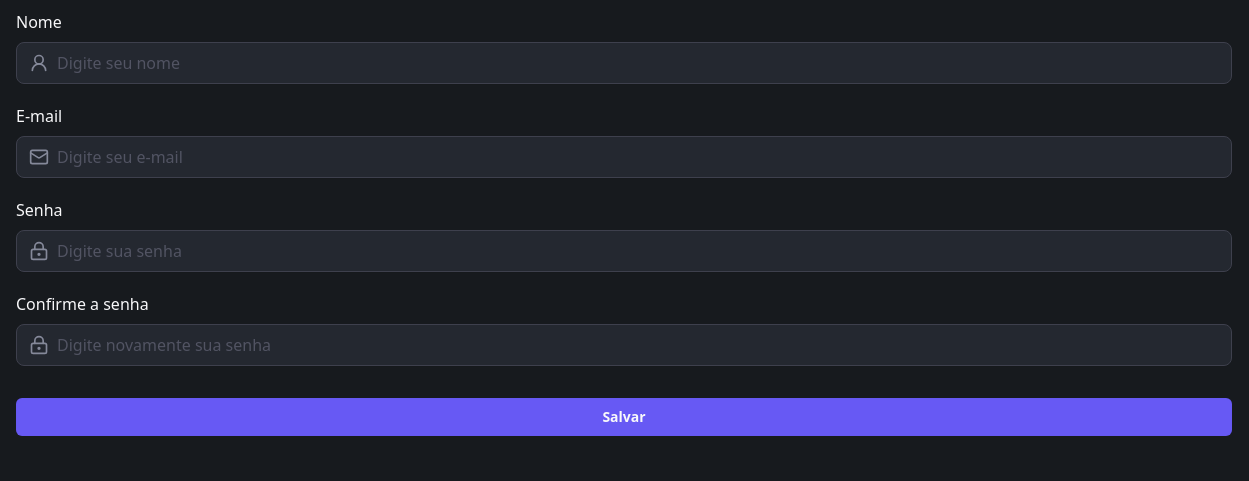
Test case: CadastrarUsuarioForm › exibe erro de campo retornado pela API
Type "Teste Silva" into the field labelled "Nome" at (638, 63), box [57,51,1219,75]
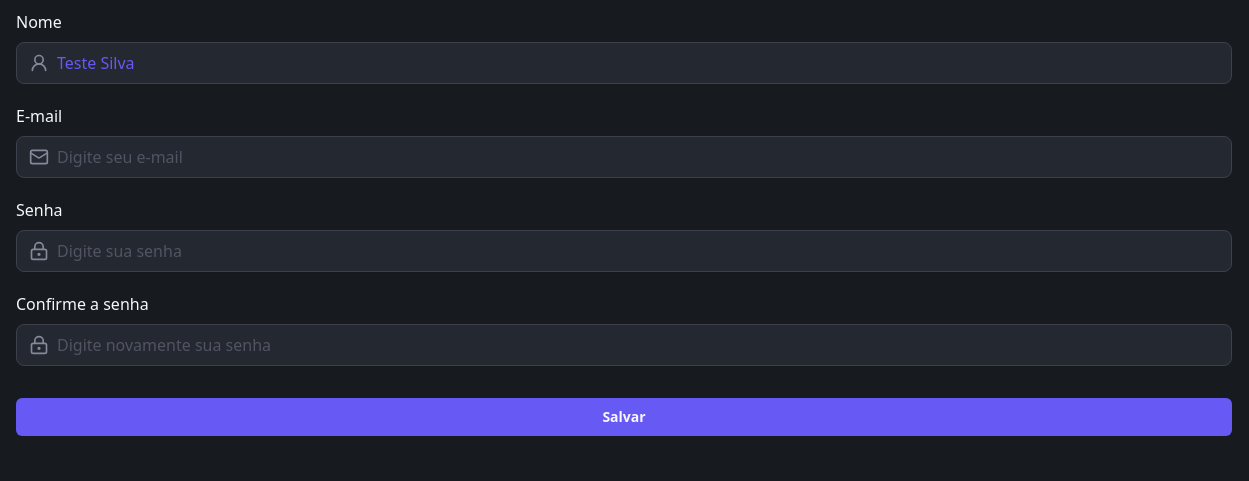
Type "teste@exemplo.com" into the field labelled "E-mail" at (638, 157), box [57,145,1219,169]
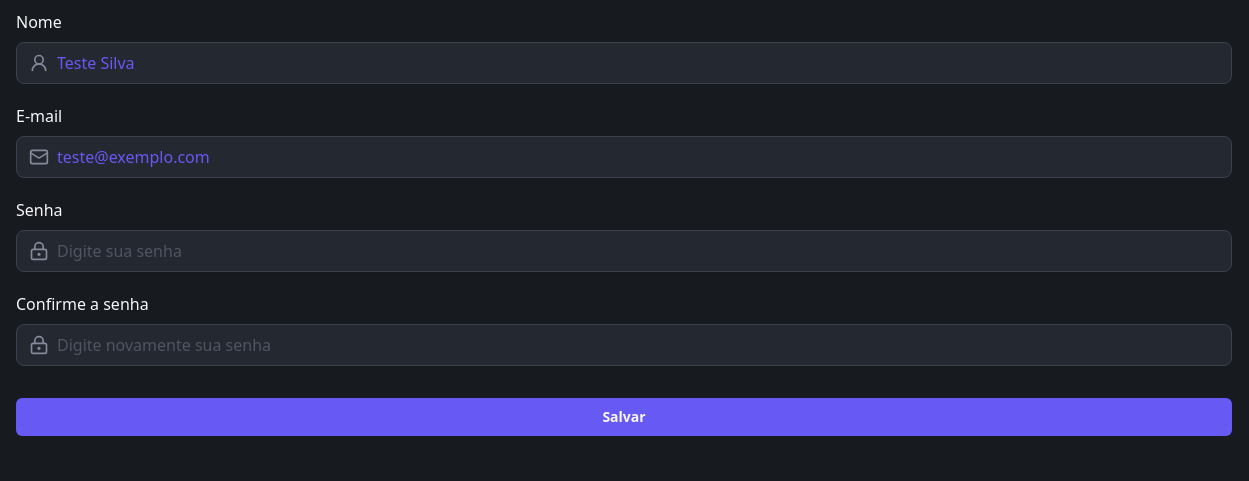
Type "12345678" into the password field labelled "Senha" at (638, 251), box [57,239,1219,263]
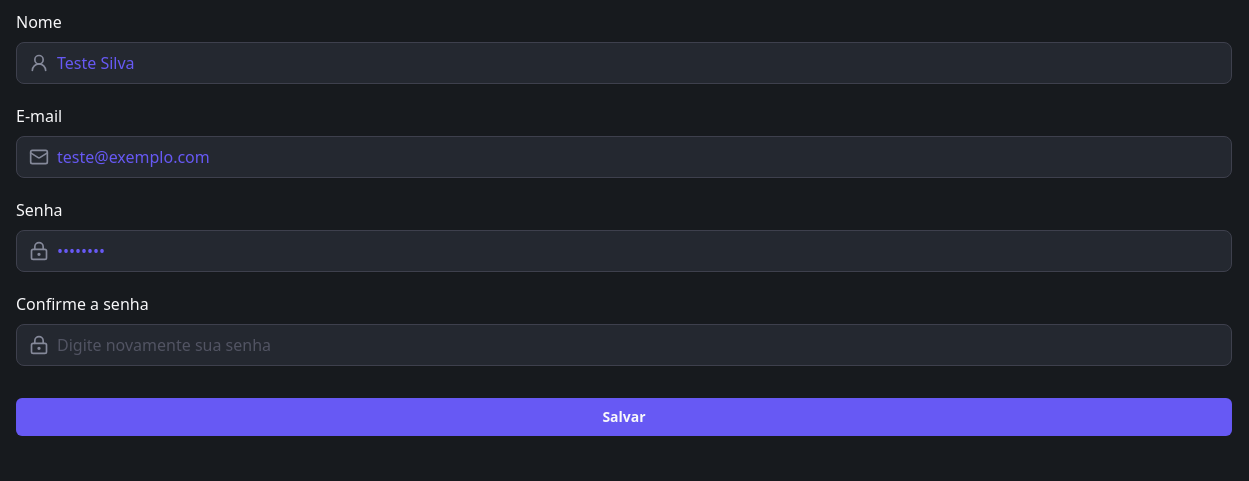
Type "12345678" into the password field labelled "Confirme a senha" at (638, 345), box [57,333,1219,357]
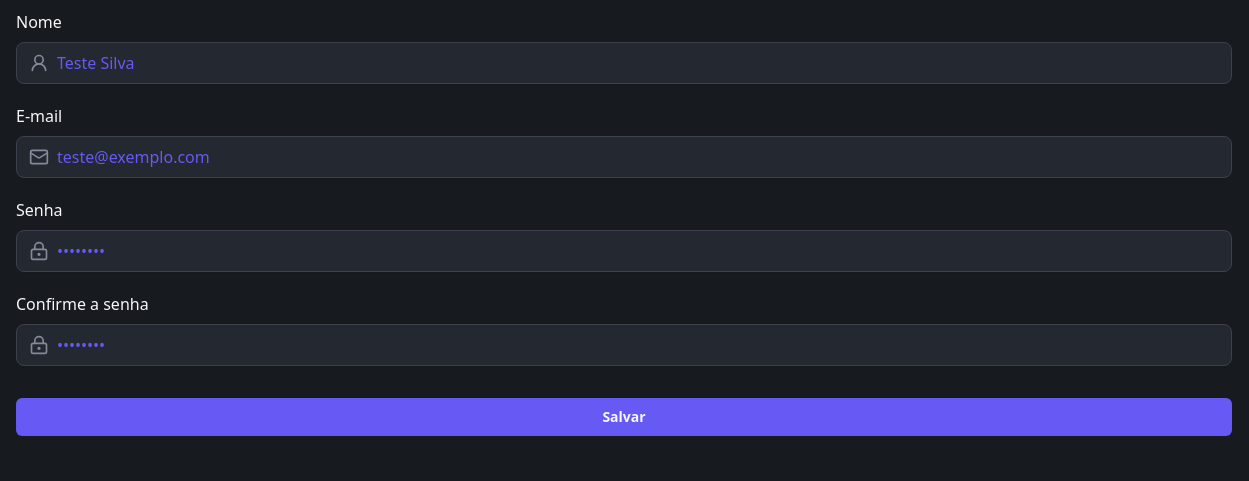
Click the button "Salvar" at (624, 417), box [16,398,1232,436]
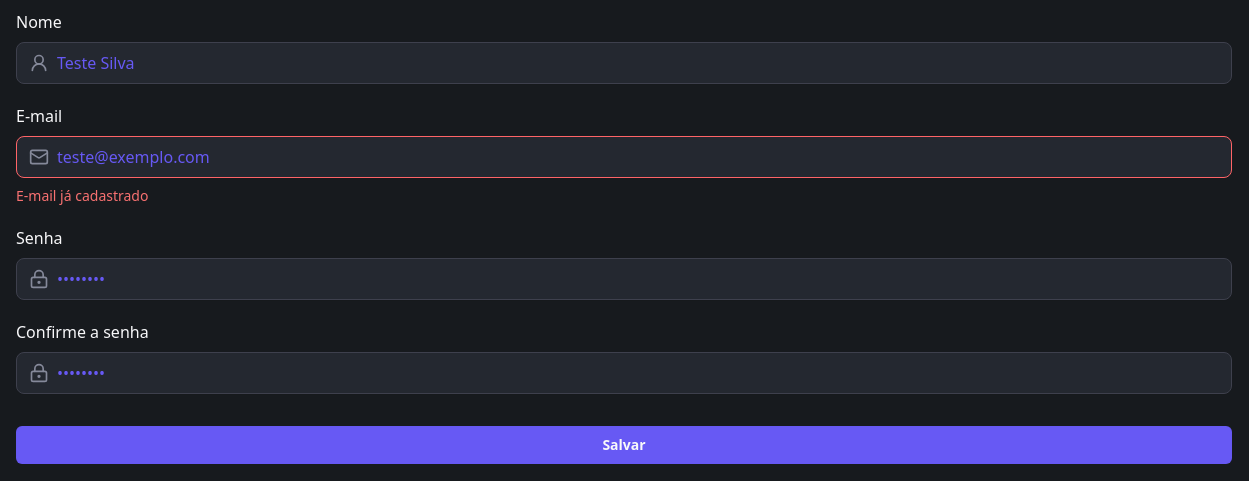
Now the text "E-mail já cadastrado" is shown, box [16,186,148,205]
